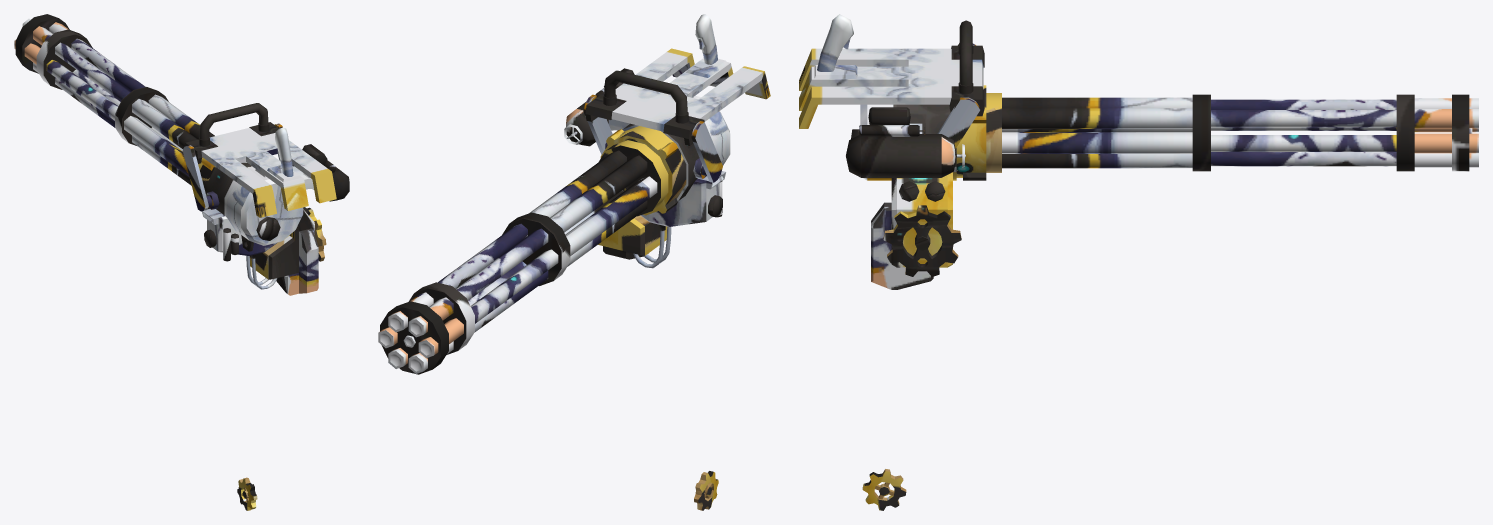
Rendered from change_mk99_tsukumo_mk99_tsukumo_gatling.glb.
3 views of the same model, side by side, from view 1: azimuth 30°, elevation 25°; view 2: azimuth 150°, elevation 25°; view 3: azimuth 270°, elevation 25° (orthographic). The views are drawn at different scales.
Size of the model in its own units: 0.413 by 1.28 by 1.55.
1 material, 1 textured.
